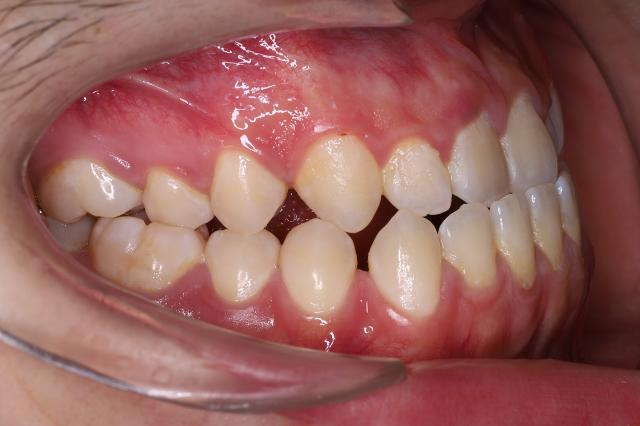canine class I: (279, 124, 445, 332)
molar class III 3/4: (34, 159, 204, 310)
